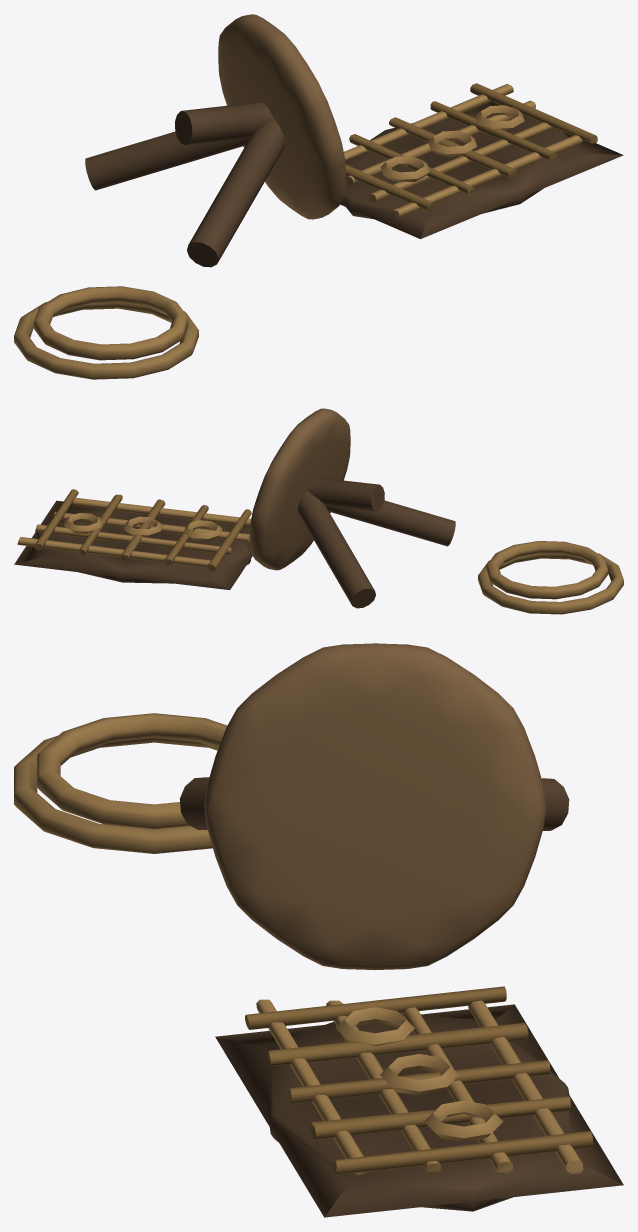
Rendered from mender_stool_c.glb.
The picture shows the model from 3 angles, top to bottom: view 1: azimuth 30°, elevation 25°; view 2: azimuth 150°, elevation 25°; view 3: azimuth 270°, elevation 25°; orthographic projection. The views are drawn at different scales.
Parts seen in each view (by area): view 1: Surface; view 2: Surface; view 3: Surface.
Part boxes in pixels (<box>): Surface: <box>14,14,623,379</box>; Surface: <box>14,408,623,614</box>; Surface: <box>14,643,623,1217</box>.
Bounding box in the file's own units: 2.65 × 0.8228 × 1.38.
